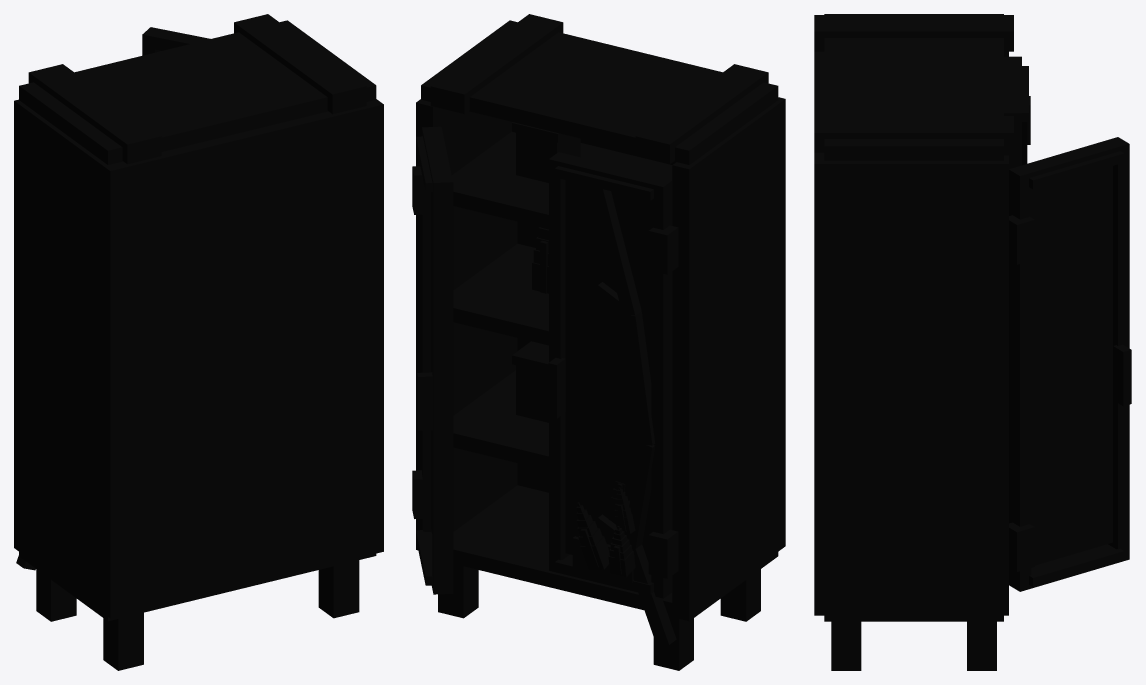
Rendered from lab_cabinet_eroded.obj.
3 views of the same model, side by side, from view 1: azimuth 30°, elevation 25°; view 2: azimuth 150°, elevation 25°; view 3: azimuth 270°, elevation 25° (orthographic).
Size of the model in its own units: 0.4706 by 0.875 by 0.4677.
